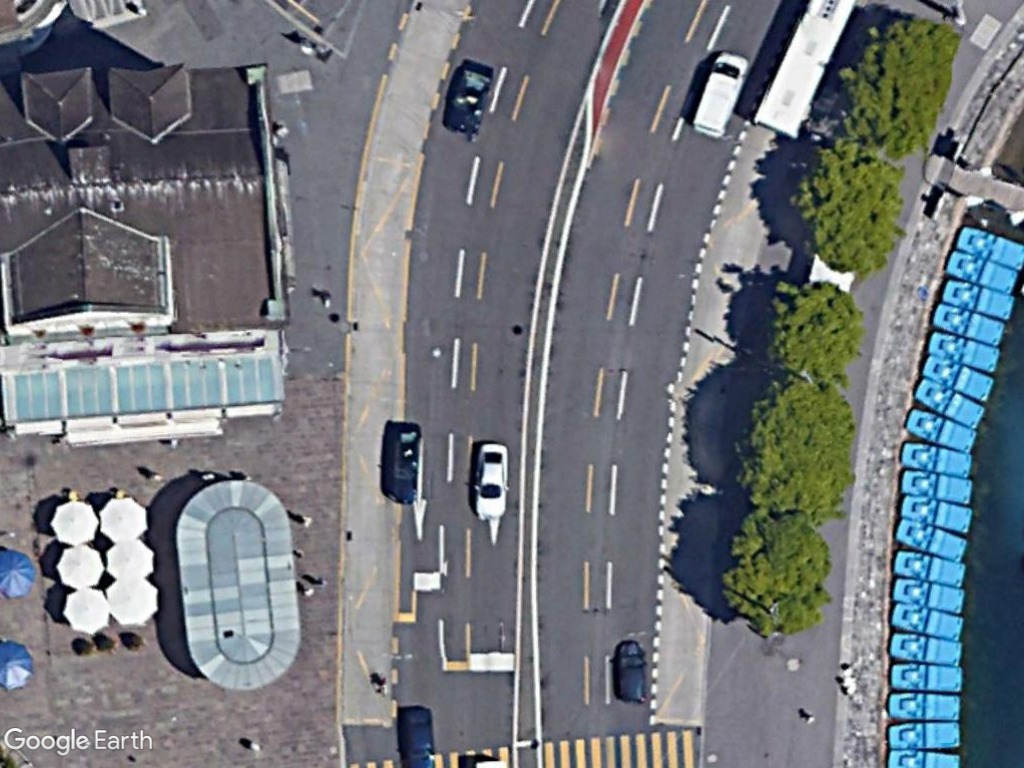car: (470, 439, 509, 525)
van: (688, 47, 748, 141)
